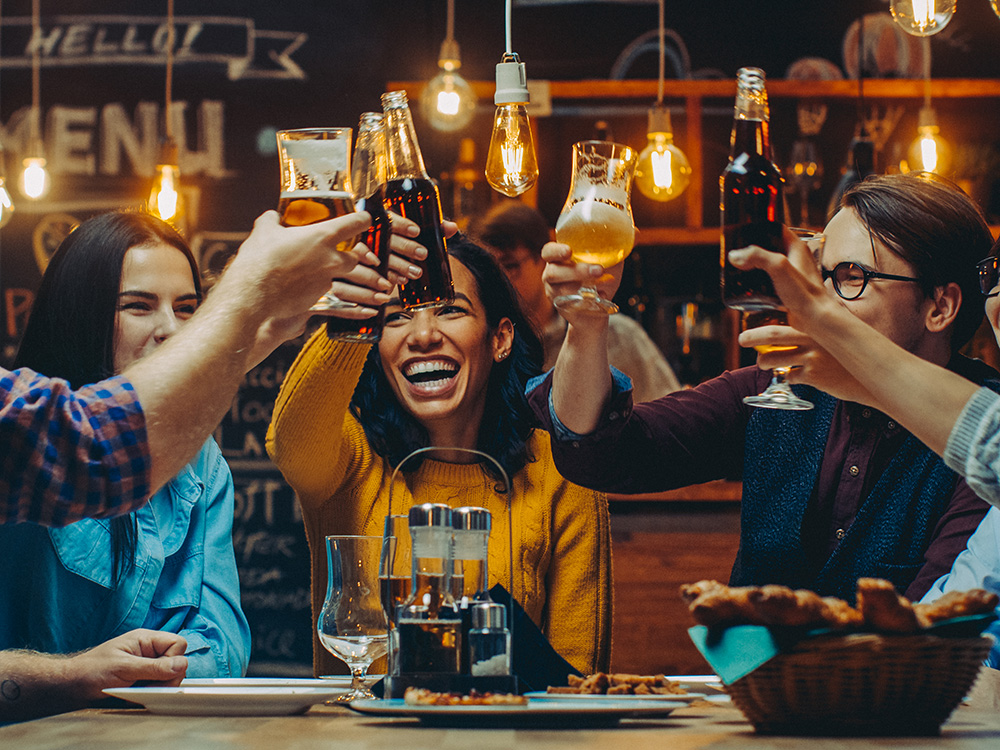beer glass: (318, 536, 387, 703), (556, 140, 637, 266), (276, 128, 354, 226)
